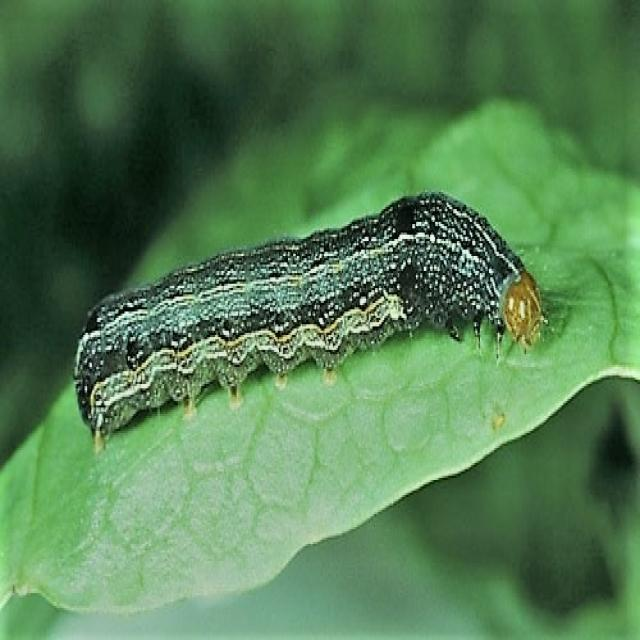armyworm: (72, 188, 548, 454)
